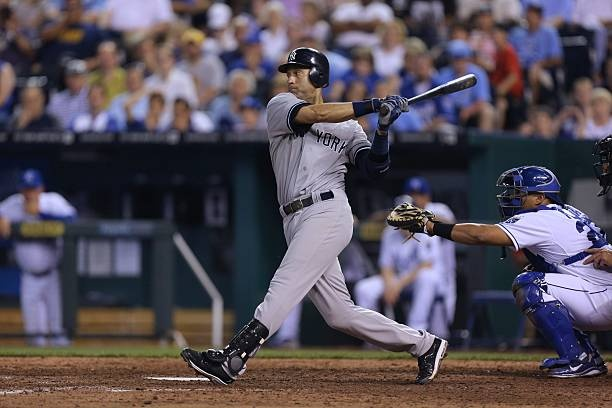bita: (384, 73, 482, 115)
